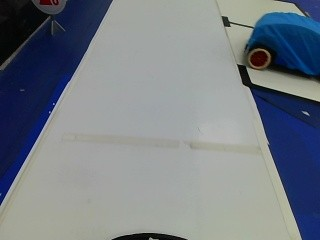car: (244, 6, 318, 80)
